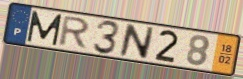2: (154, 30, 180, 65)
3: (93, 19, 121, 55)
8: (185, 35, 212, 68)
M: (25, 9, 64, 47)
N: (117, 22, 156, 61)
R: (56, 15, 92, 51)
